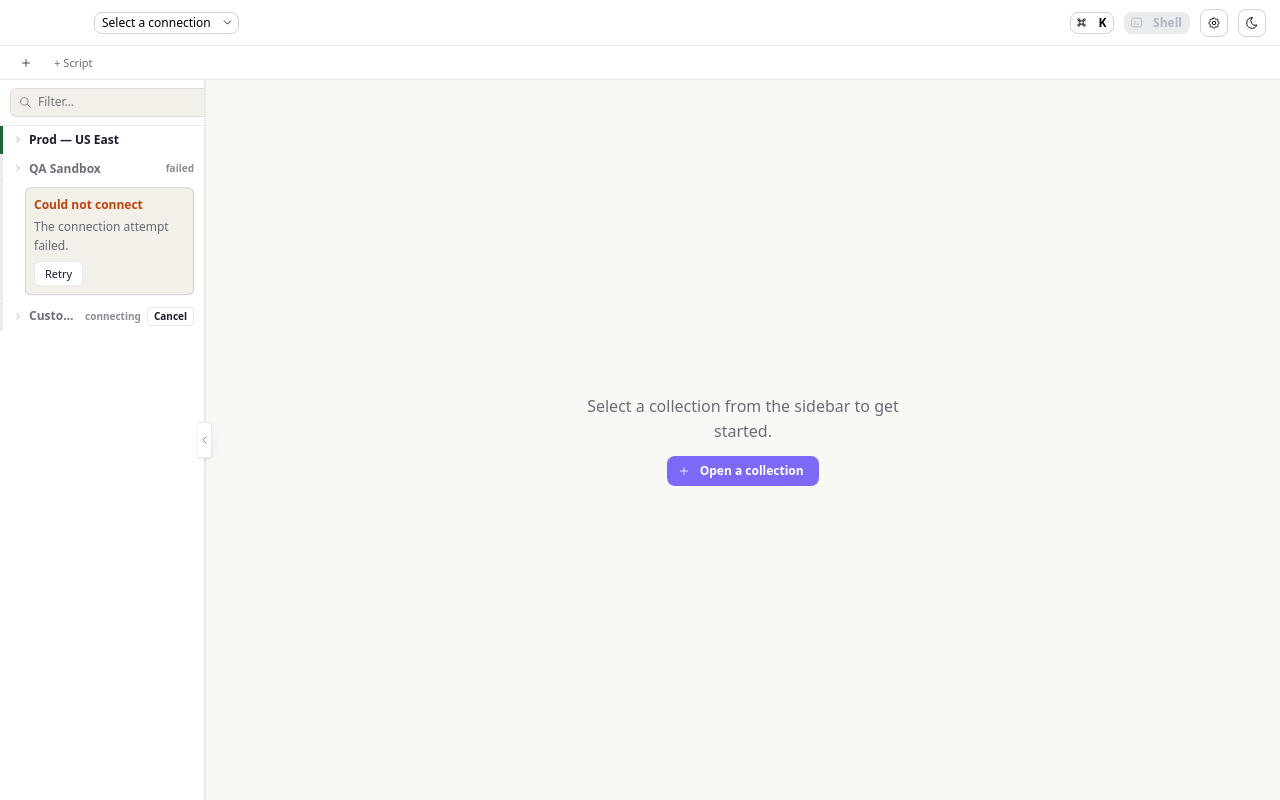
Scenario: ConnectionSwitcher › opens from the TitleBar Connection name and lists every saved Connection
The image size is (1280, 800).
Click the button with aria-label "Connection: " at {"x": 167, "y": 22}, box [94,12,239,34]
(page scrolled)
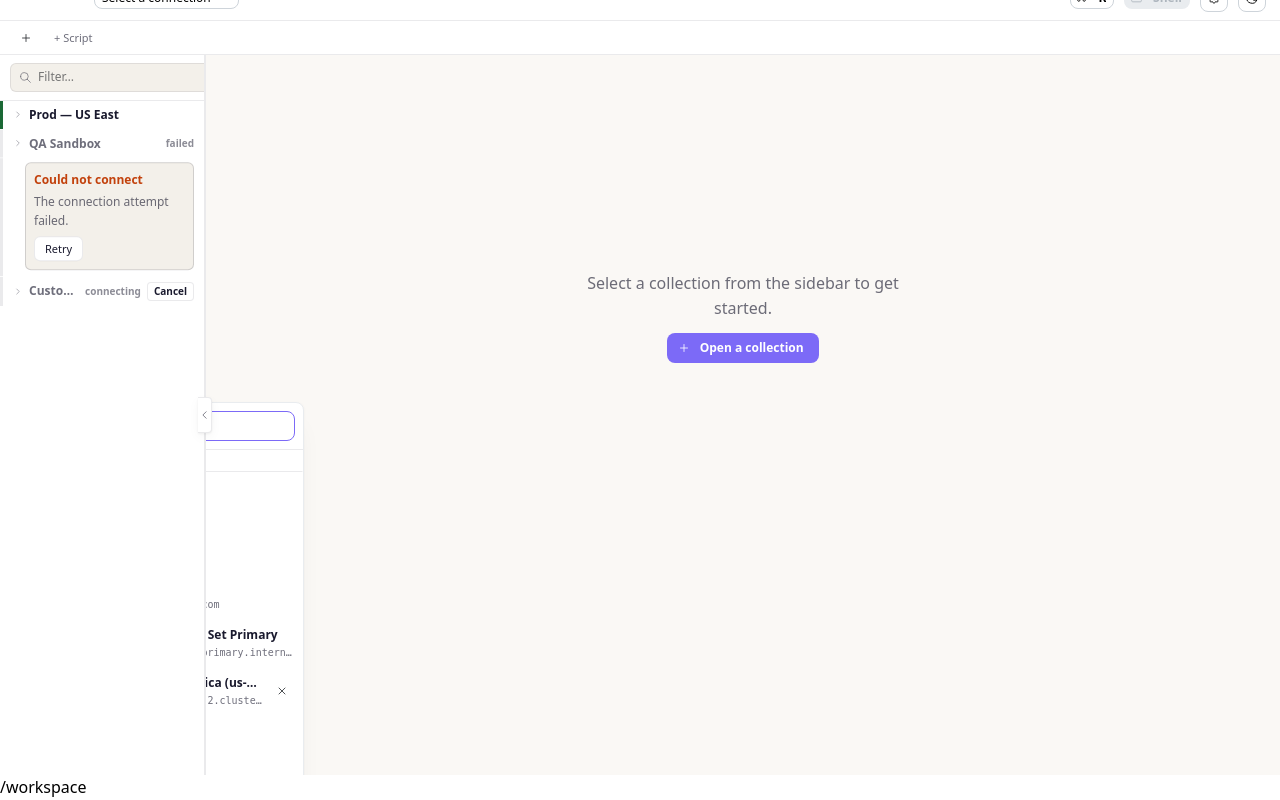
Result: the option "QA Sandbox" is shown at [5,571,303,619]
Result: the option "Analytics Warehouse Replica Set Primary" is shown at [5,619,303,667]
Result: the option "Customer Support Read Replica (us-west-2)" is shown at [5,667,303,715]
